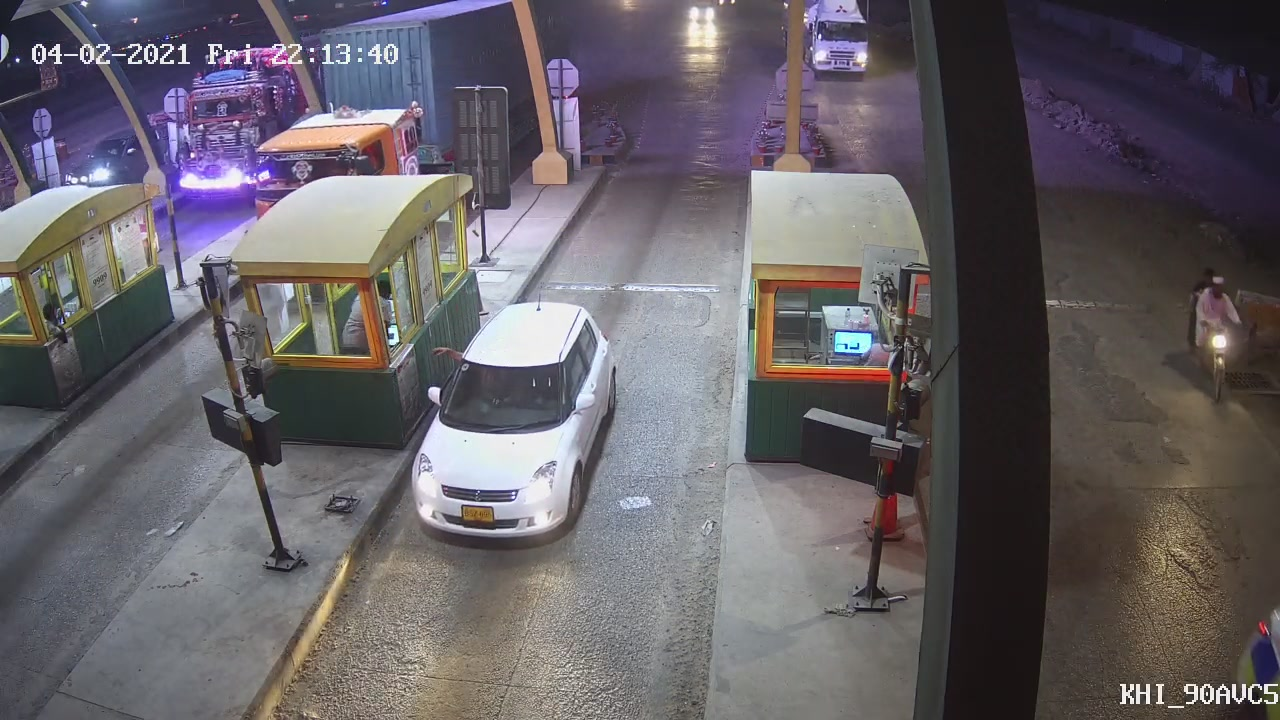F1: (407, 290, 626, 549)
